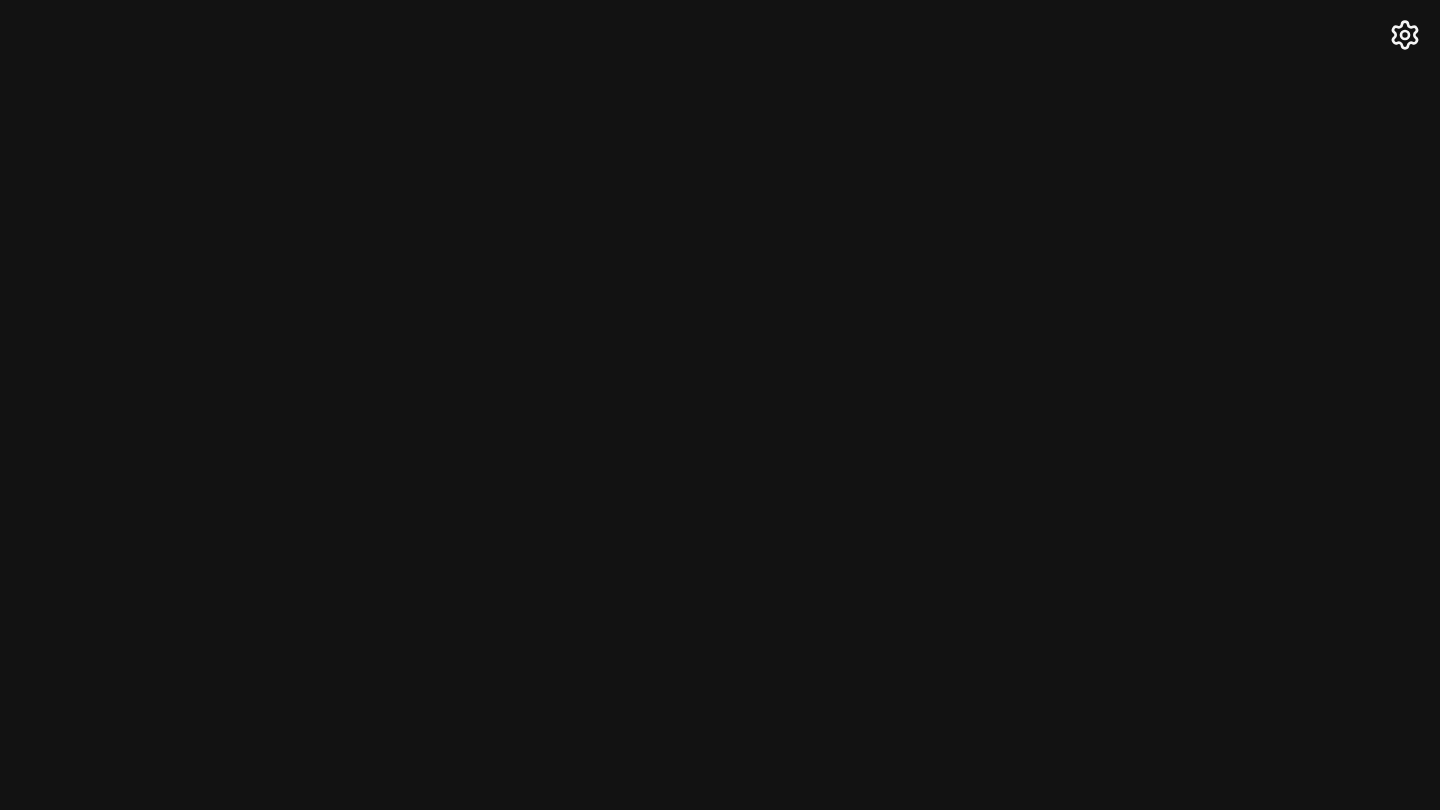
Test: settings support Escape, focus return and accessible language disclosure
Click the button named "configurações": click(1405, 35) [1385,15,1425,55]
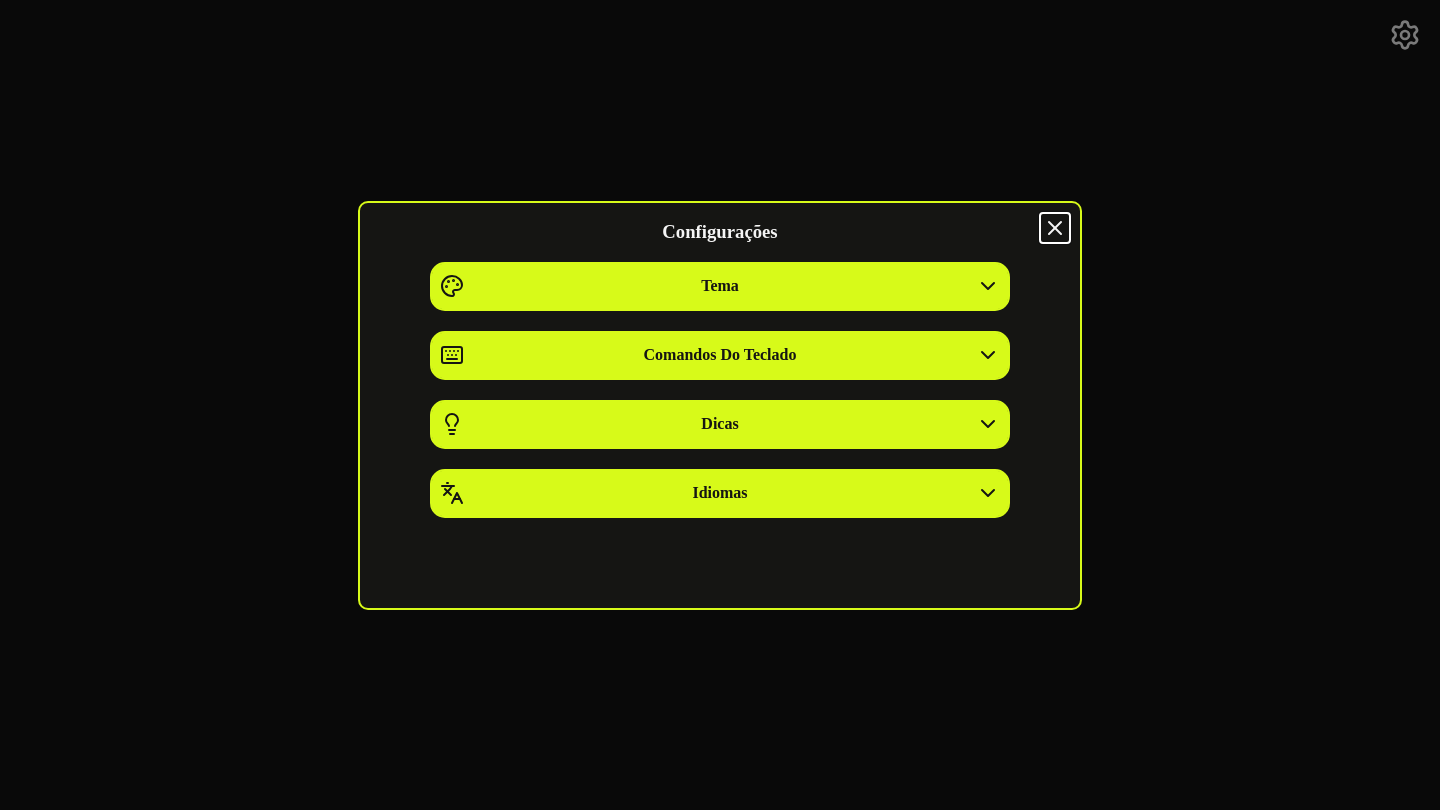
Click the button "idiomas": click(720, 493) [432,471,1008,516]
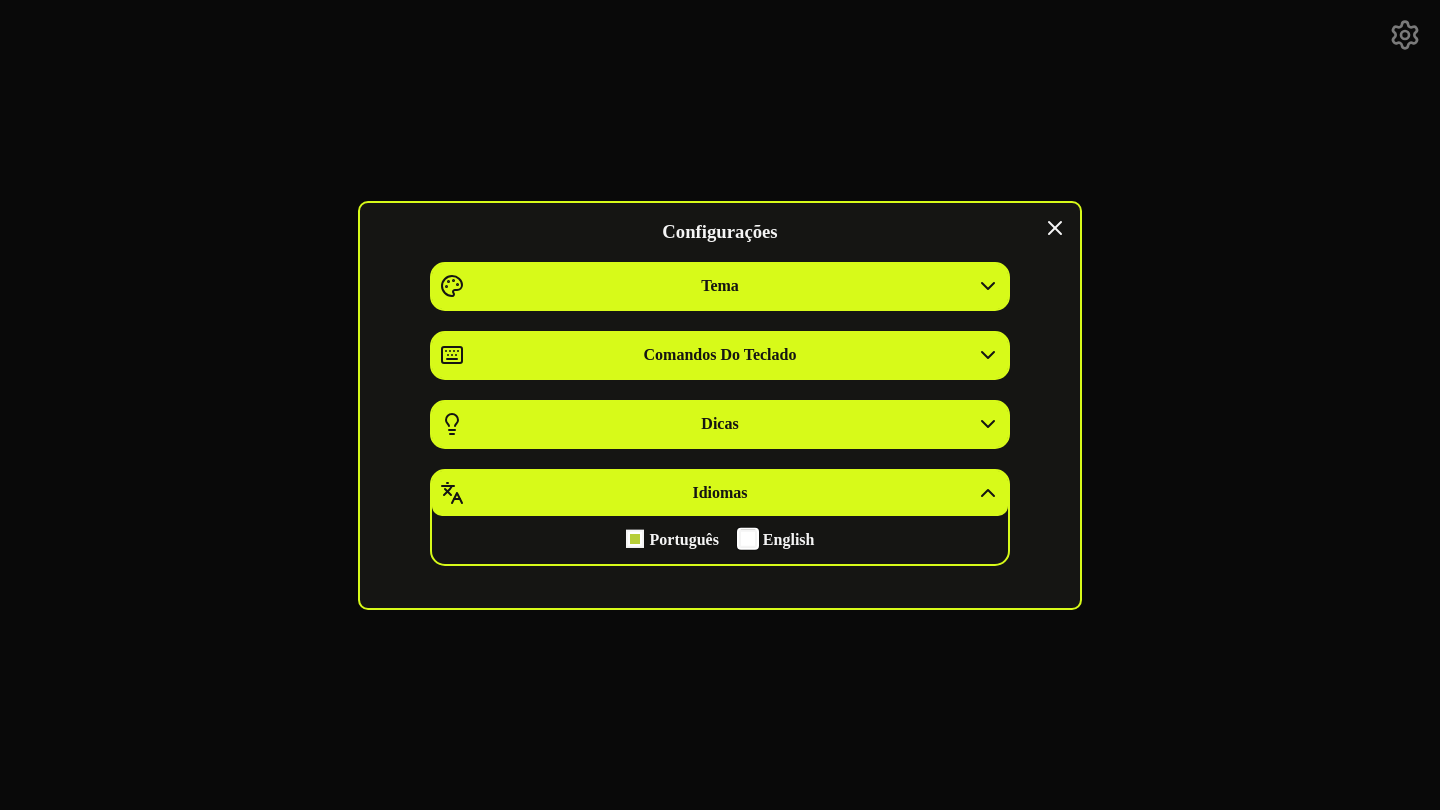
Now the button "idiomas" is expanded, box [432,471,1008,516]
Press Tab
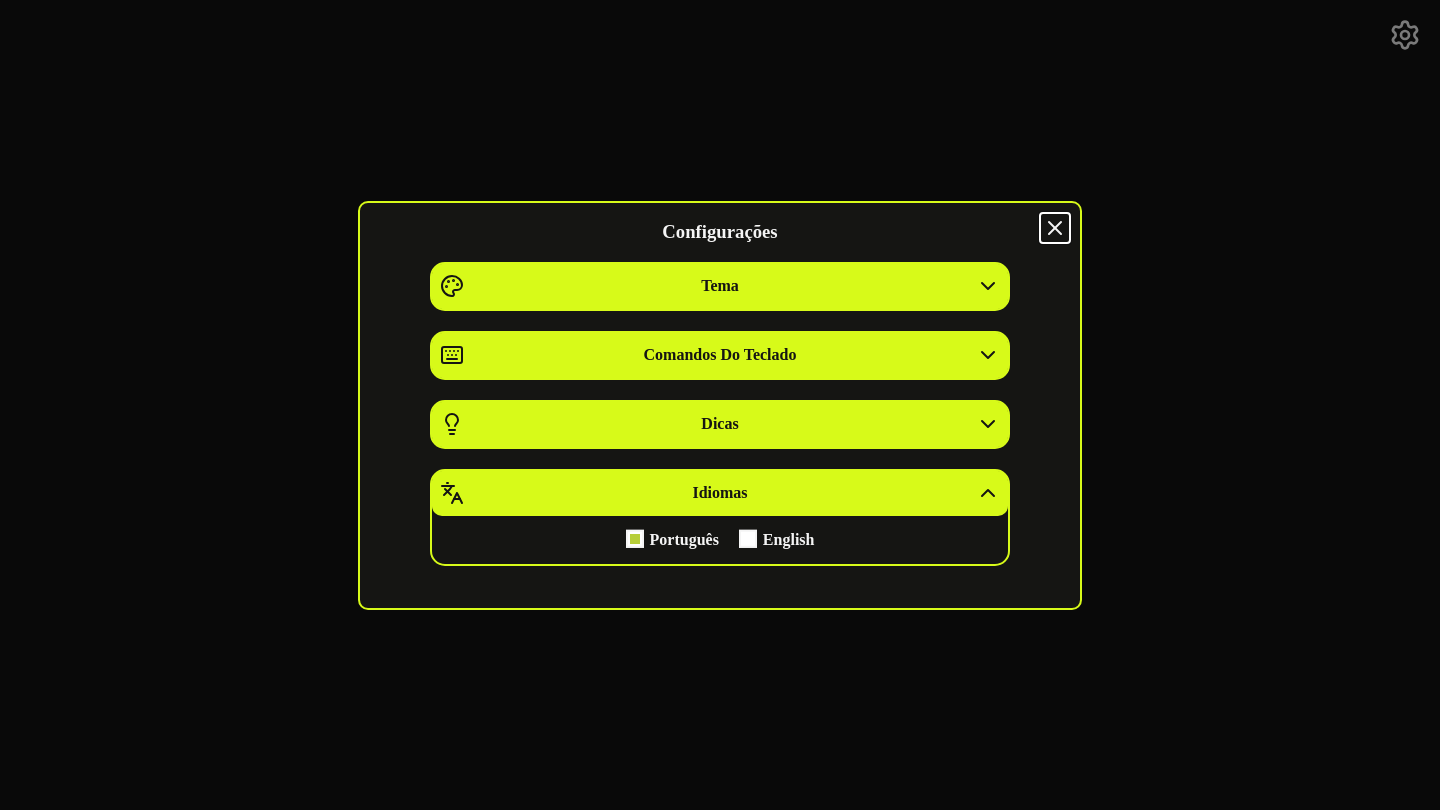
Press Escape
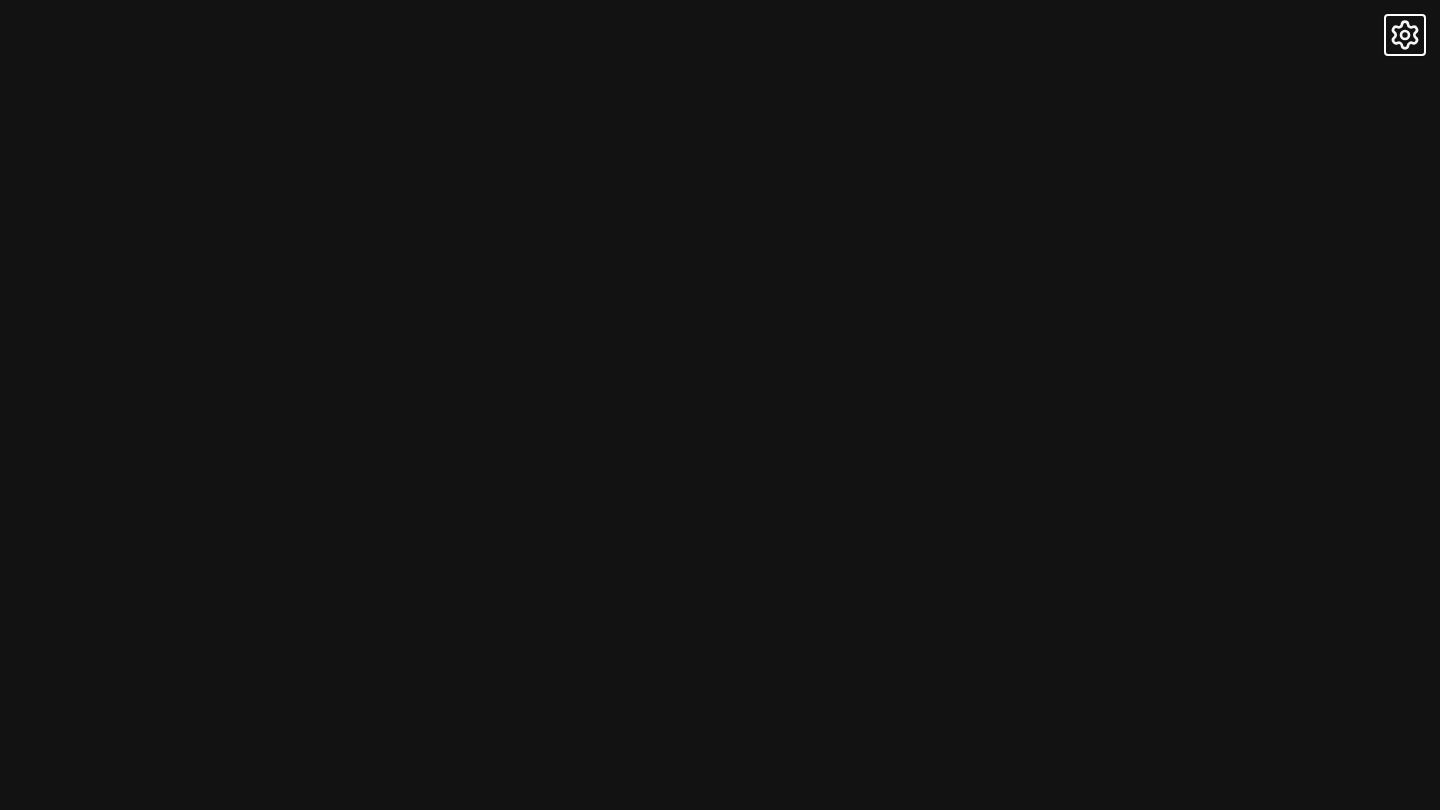
Now the dialog is gone
